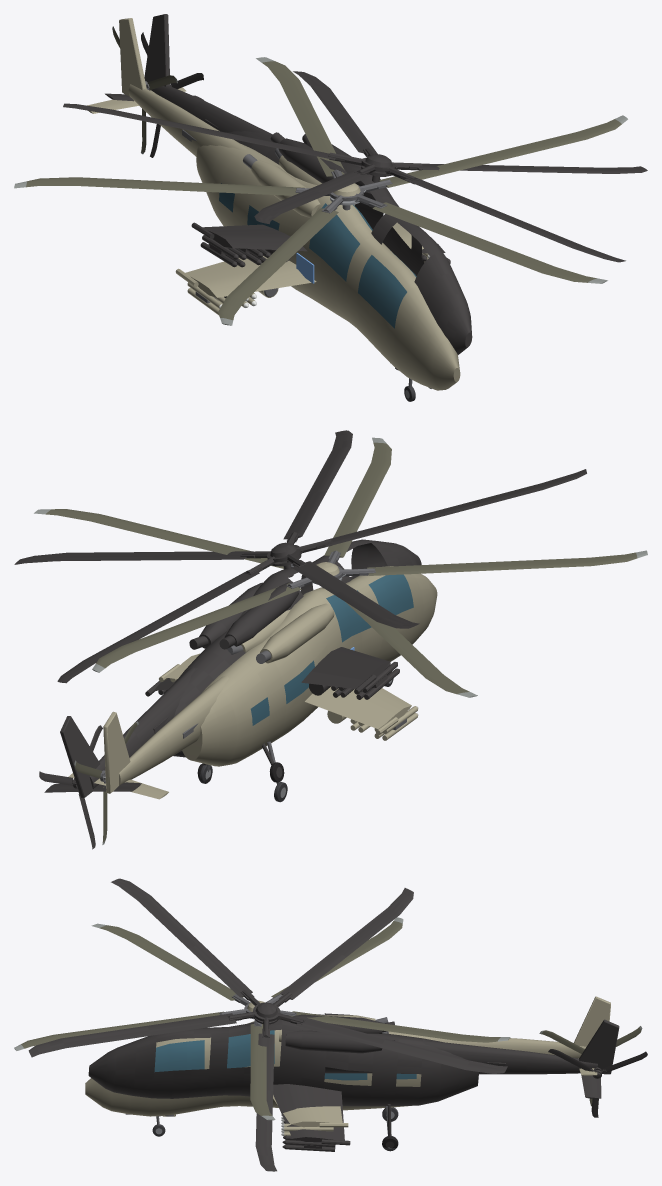
The model's file is gunship__mi_24v.glb.
The picture shows the model from 3 angles, top to bottom: view 1: azimuth 30°, elevation 25°; view 2: azimuth 150°, elevation 25°; view 3: azimuth 270°, elevation 25°; orthographic projection. The views are drawn at different scales.
Visible parts, largest first — view 1: Fuselage_Mesh, Wreck, Rotor_Main_Mesh, Stub_Wings_Stores_Mesh, Engines_Mesh; view 2: Wreck, Fuselage_Mesh, Rotor_Main_Mesh, Stub_Wings_Stores_Mesh, Engines_Mesh, Rotor_Tail_Mesh; view 3: Wreck, Fuselage_Mesh, Rotor_Main_Mesh, Stub_Wings_Stores_Mesh, Rotor_Tail_Mesh.
Part boxes in pixels (x1,y1,x2,y2): Fuselage_Mesh: (87,18,460,390); Wreck: (63,14,647,354); Rotor_Main_Mesh: (14,57,627,325); Stub_Wings_Stores_Mesh: (175,222,429,315); Engines_Mesh: (243,148,354,217); Wreck: (14,430,586,849); Fuselage_Mesh: (68,566,437,799); Rotor_Main_Mesh: (34,437,647,697); Stub_Wings_Stores_Mesh: (159,653,418,740); Engines_Mesh: (227,603,334,663); Rotor_Tail_Mesh: (74,721,138,844); Wreck: (28,878,647,1171); Fuselage_Mesh: (85,996,610,1116); Rotor_Main_Mesh: (14,917,510,1120); Stub_Wings_Stores_Mesh: (273,1095,348,1136); Rotor_Tail_Mesh: (539,1026,642,1106).
Size of what is drawn, in the model's own units: 16.57 by 6.98 by 21.12.
